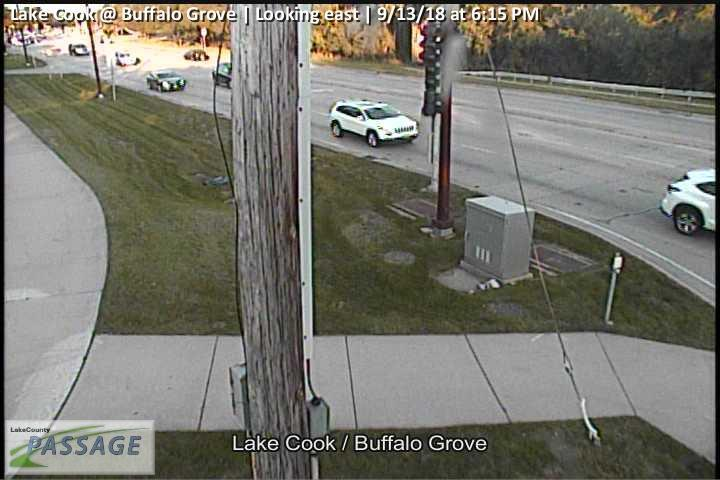SUV: (330, 98, 419, 148)
Sedan: (147, 70, 186, 92), (69, 43, 89, 56)
